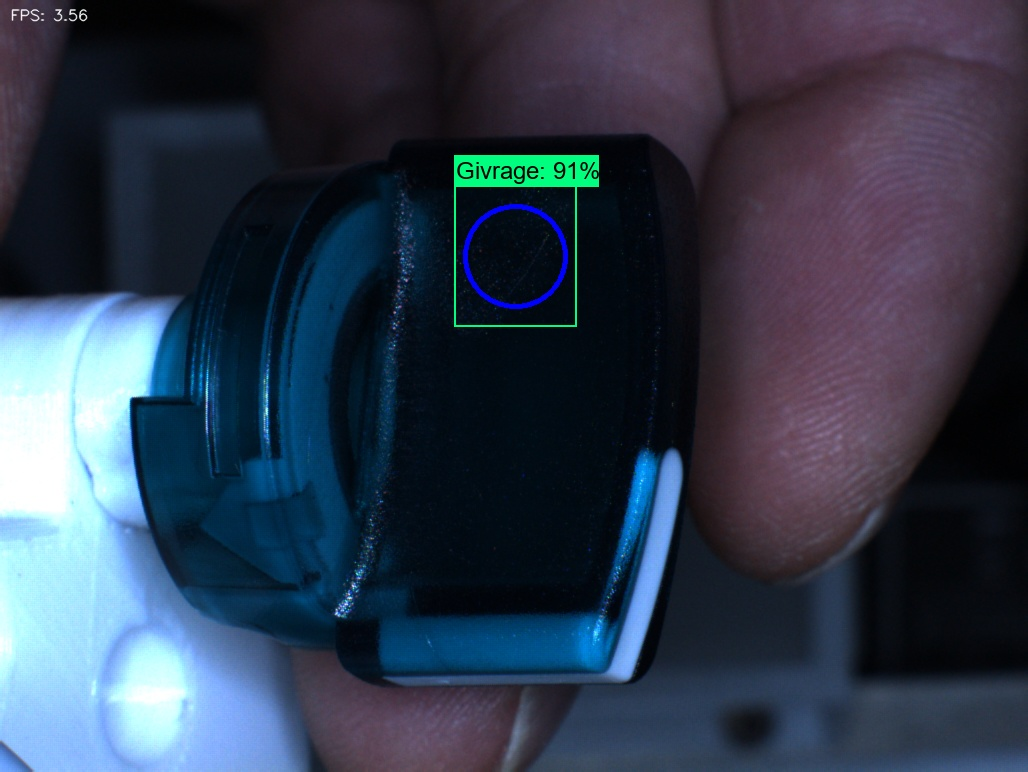PointNoir: (293, 268, 361, 342)
